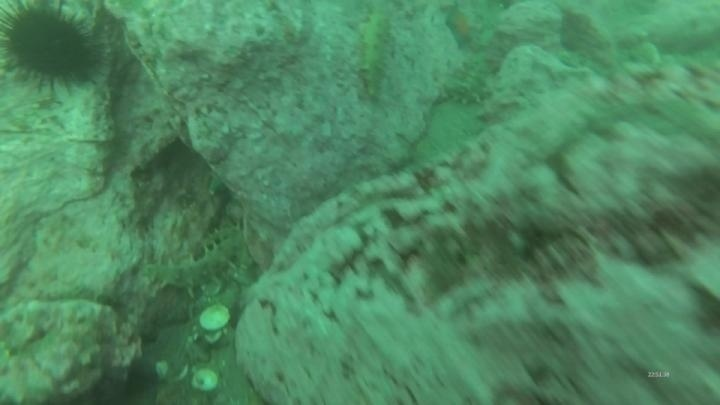echinus: (1, 1, 102, 96)
holothurian: (139, 224, 248, 300), (354, 6, 395, 104), (440, 51, 499, 109)
starfish: (441, 5, 482, 50)
